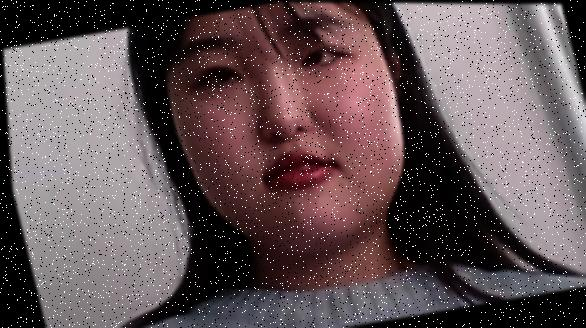eye: (211, 62, 232, 81), (302, 45, 323, 64)
iris: (201, 65, 243, 89), (297, 47, 341, 69)
